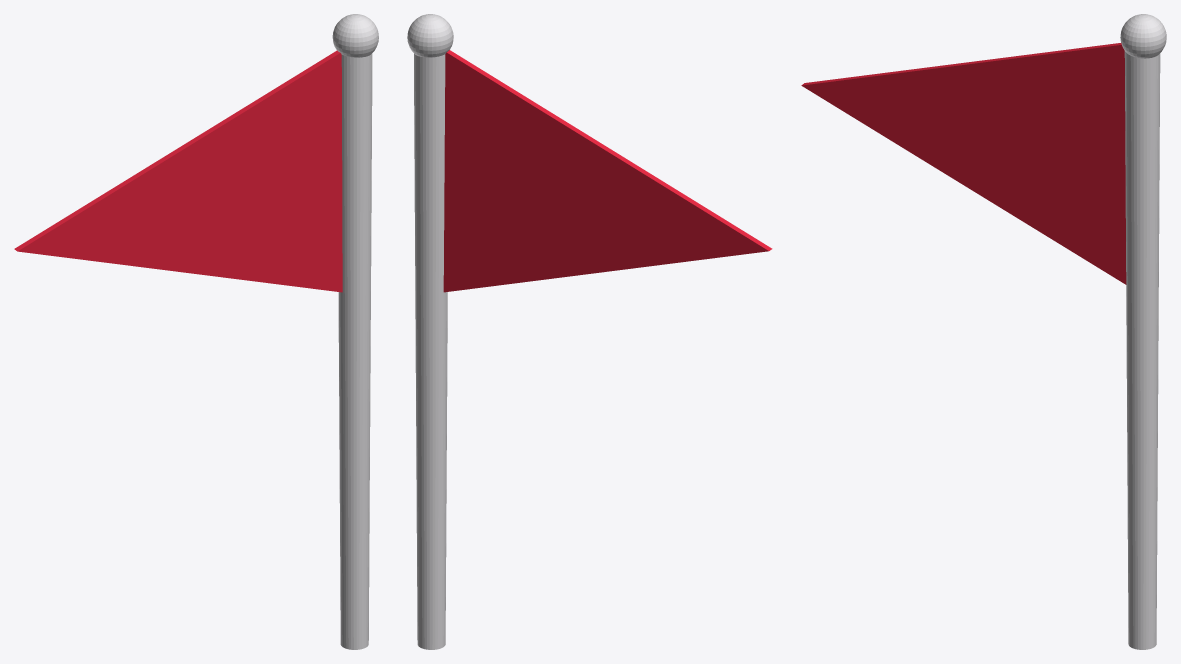
The model's file is flag.fbx1.fbx.
3 renders of one model, left to right at view 1: azimuth 30°, elevation 25°; view 2: azimuth 150°, elevation 25°; view 3: azimuth 330°, elevation 25°, orthographic.
Visible parts, largest first — view 1: Cylinder; view 2: Cylinder; view 3: Cylinder.
Boxes of the visible parts, box(x1,y1,x2,y2) form: Cylinder: box(14, 14, 378, 649); Cylinder: box(407, 14, 772, 649); Cylinder: box(801, 14, 1166, 649).
Size of the model in its own units: 124 by 207 by 13.85.
